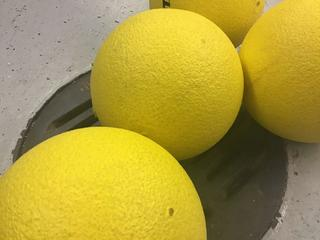power_cell: (3, 127, 216, 240), (95, 17, 239, 154), (239, 3, 320, 143)
